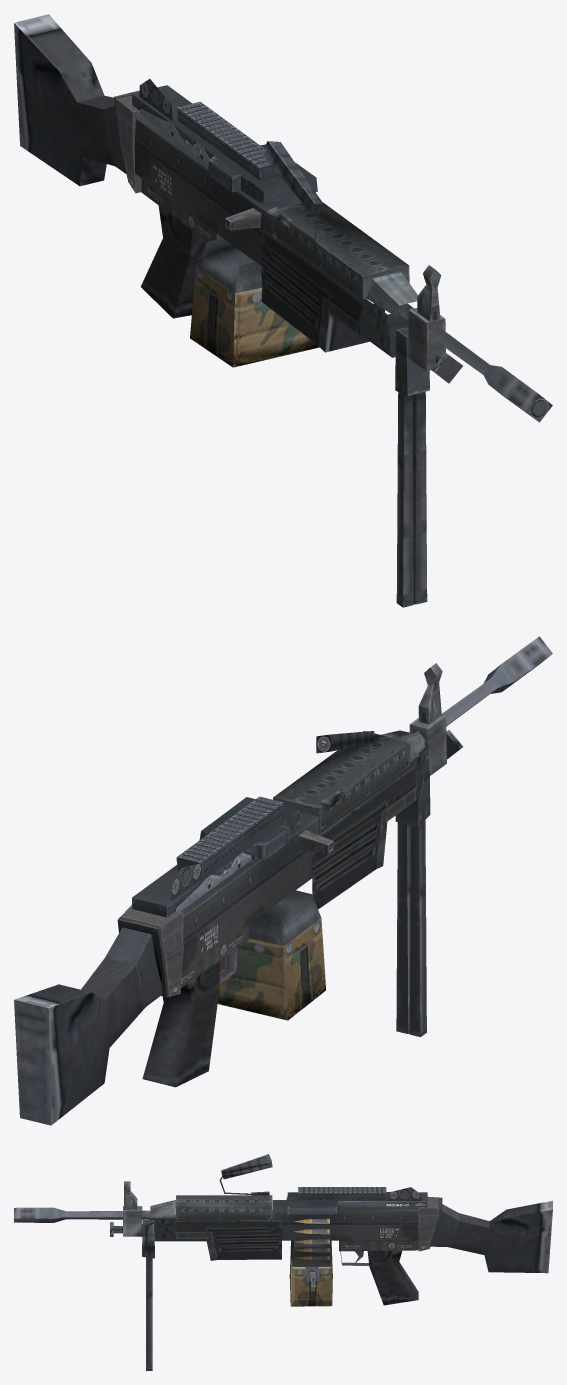
The model's file is SMG_cfq_01_lod2_Body_LOD_(000647).glb.
3 renders of one model, top to bottom at view 1: azimuth 30°, elevation 25°; view 2: azimuth 150°, elevation 25°; view 3: azimuth 270°, elevation 25°, orthographic. The views are drawn at different scales.
Visible parts, largest first — view 1: cfq_01_lod2; view 2: cfq_01_lod2; view 3: cfq_01_lod2.
Part boxes in pixels (x1,y1,x2,y2): cfq_01_lod2: (14,14,552,607); cfq_01_lod2: (14,636,552,1125); cfq_01_lod2: (14,1154,552,1370).
Size of the model in its own units: 0.1932 by 0.6045 by 1.44.
1 material, 1 textured.
